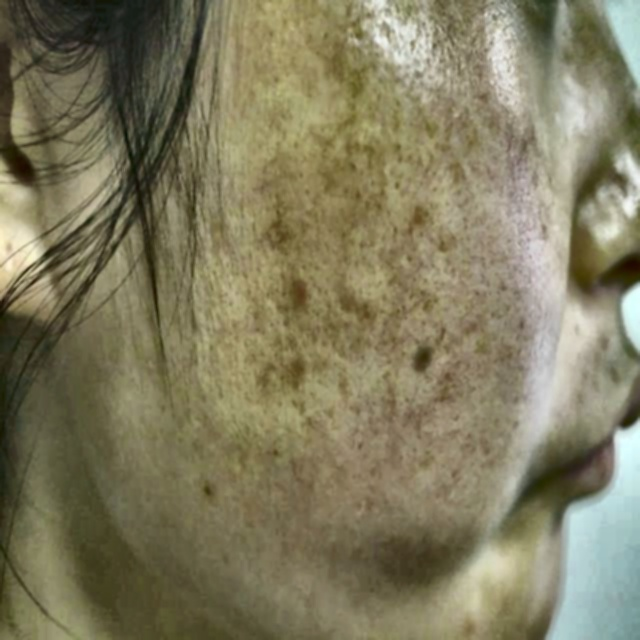comedone: (279, 265, 317, 327)
